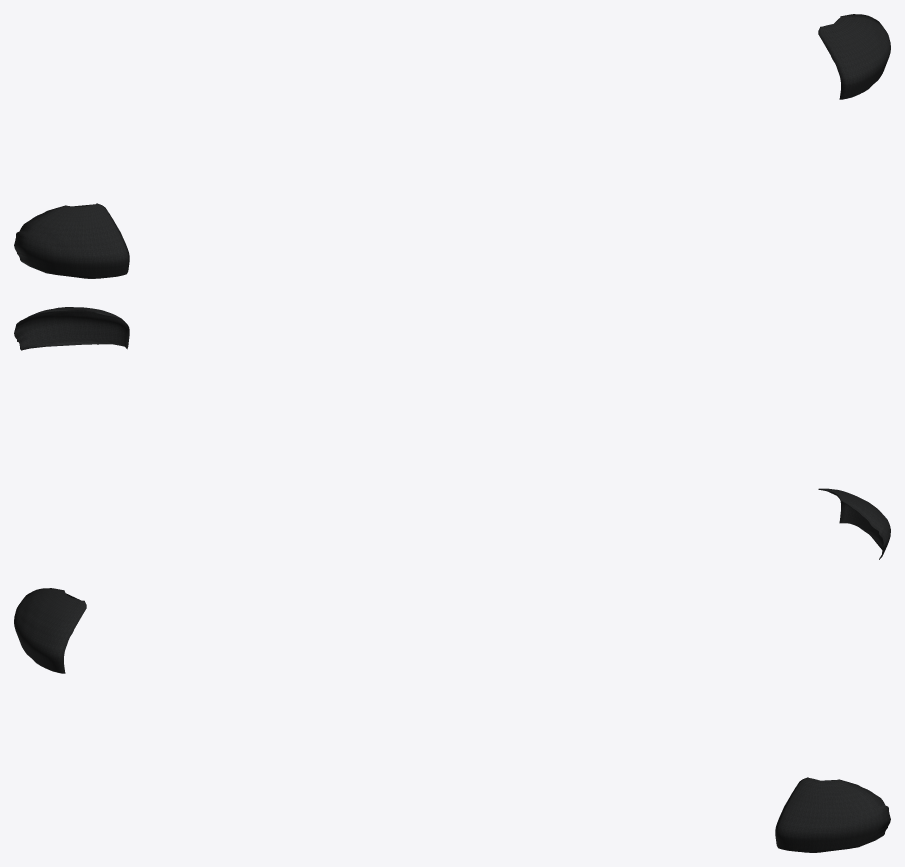
Rendered from DT41_mirror_caps.glb.
3 views of the same model, one above another, from view 1: azimuth 30°, elevation 25°; view 2: azimuth 150°, elevation 25°; view 3: azimuth 330°, elevation 25° (orthographic).
Parts seen in each view (by area): view 1: MOD_ND_DT41_cap_R, MOD_ND_DT41_cap_L; view 2: MOD_ND_DT41_cap_L, MOD_ND_DT41_cap_R; view 3: MOD_ND_DT41_cap_L, MOD_ND_DT41_cap_R.
Boxes of the visible parts, box(x1,y1,x2,y2) form: MOD_ND_DT41_cap_R: box(14, 203, 129, 278); MOD_ND_DT41_cap_L: box(818, 14, 890, 99); MOD_ND_DT41_cap_L: box(14, 307, 129, 350); MOD_ND_DT41_cap_R: box(818, 488, 890, 559); MOD_ND_DT41_cap_L: box(775, 777, 890, 852); MOD_ND_DT41_cap_R: box(14, 588, 86, 673).
Bounding box in the file's own units: 1.94 × 0.1145 × 0.1538.
Materials: 1 (1 with a texture image).
